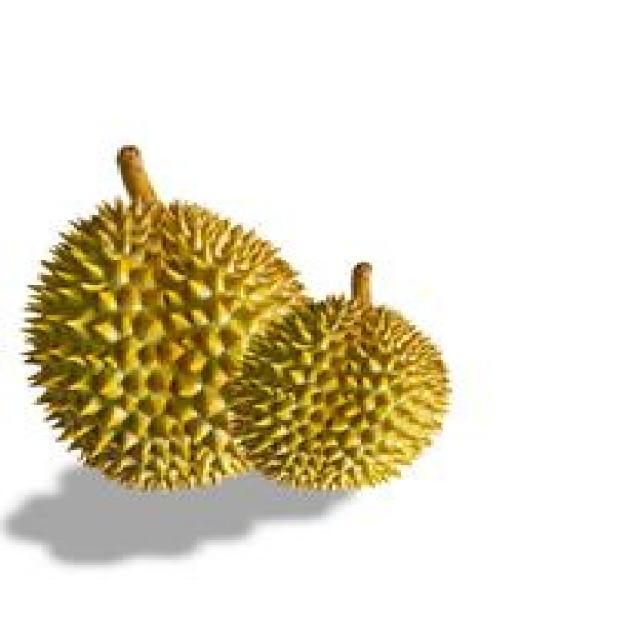fruit: (3, 168, 363, 540), (200, 268, 474, 530)
